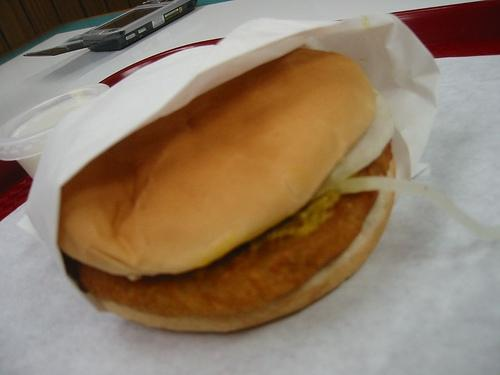onion: (313, 175, 500, 243), (324, 94, 394, 184)
